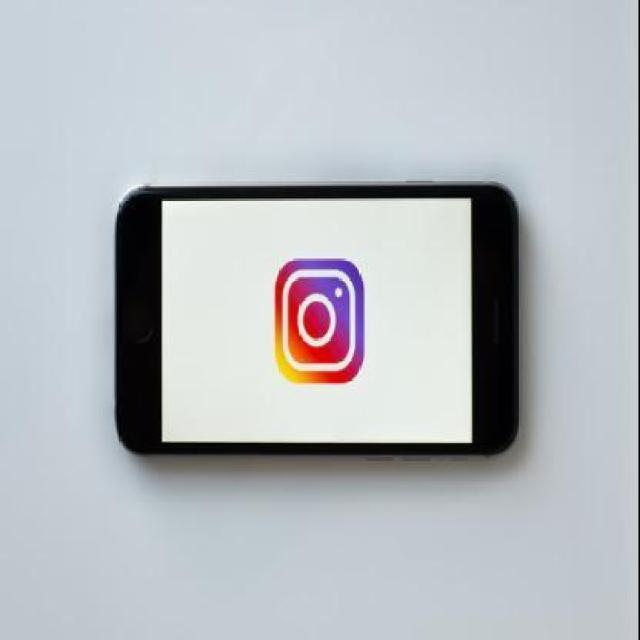mobile: (113, 176, 524, 462)
